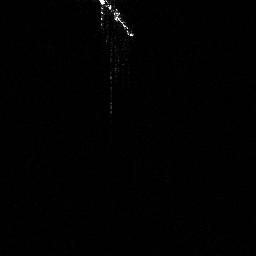ship: (95, 1, 137, 39)
